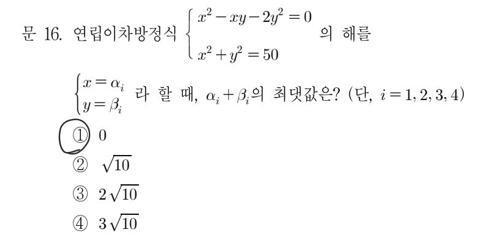1: (56, 116, 91, 156)
paper: (71, 125, 90, 145), (71, 154, 90, 174), (70, 183, 89, 203), (70, 213, 89, 233)
